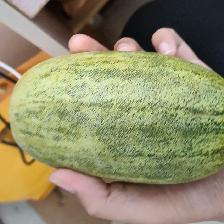gua: (42, 69, 208, 167)
